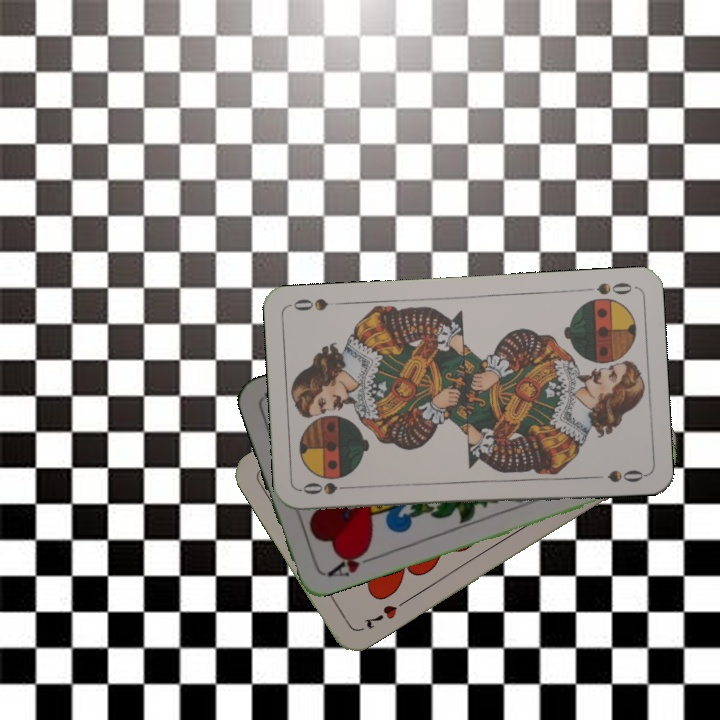H7: (360, 600, 400, 632)
HA: (323, 544, 379, 580)
SO: (298, 478, 357, 497), (593, 278, 635, 298)
